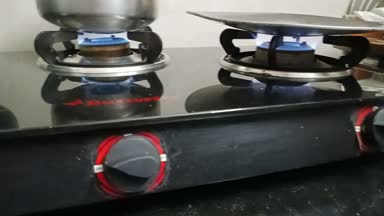flame_gas_on: (52, 25, 171, 191), (225, 29, 357, 77)
